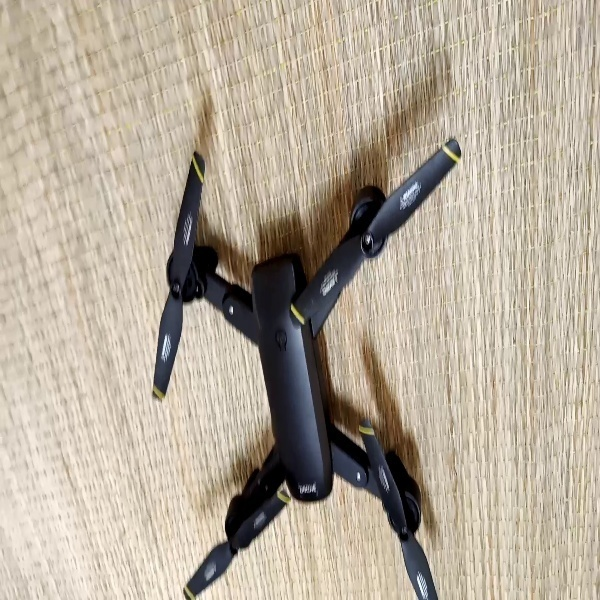drone: (144, 129, 465, 600)
